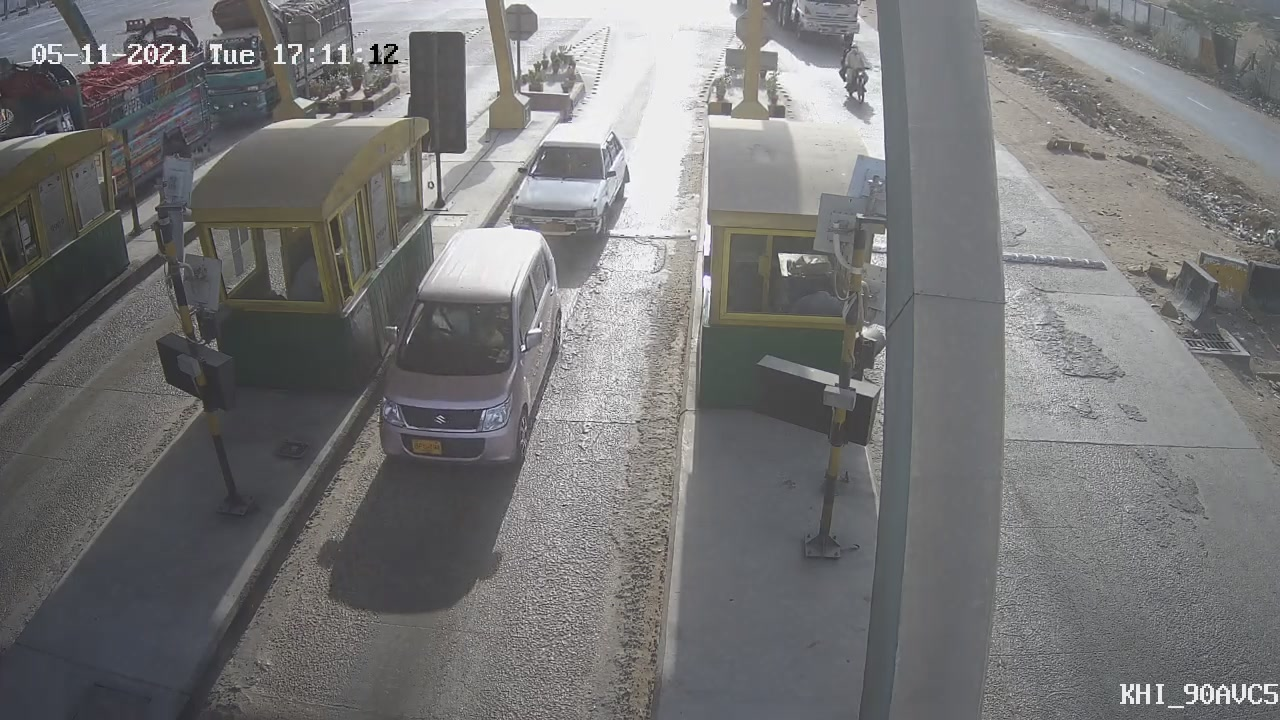F1: (357, 209, 586, 490), (501, 111, 643, 262)
